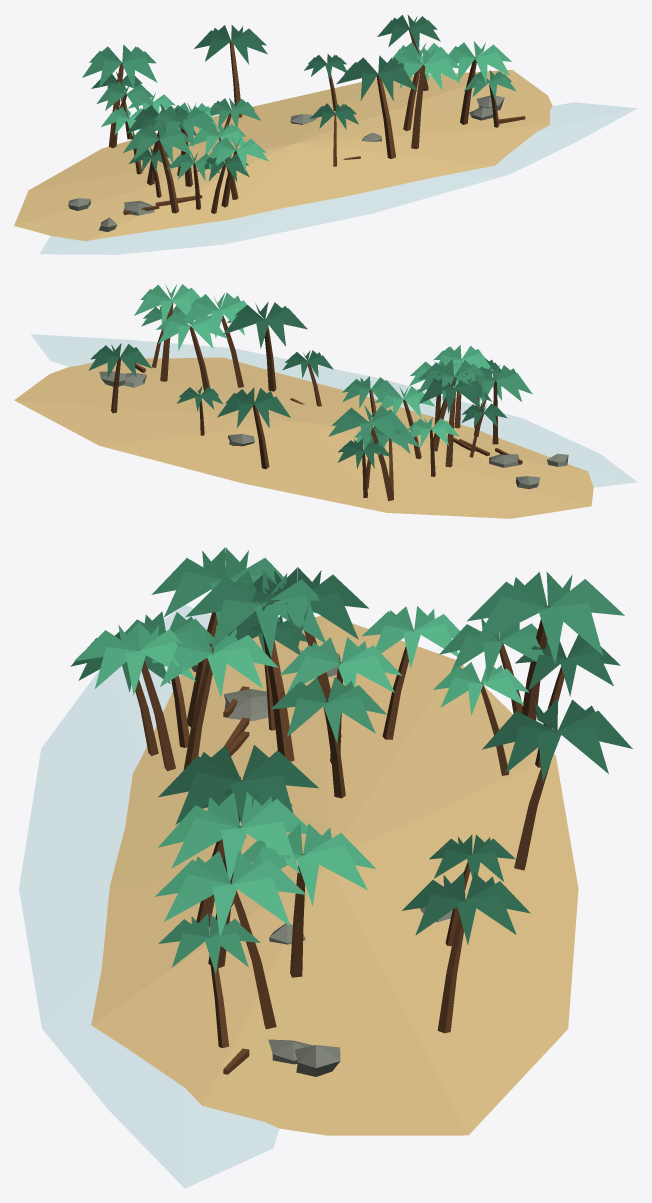
Rendered from W3_Mid_PalmGrove.fbx.
The picture shows the model from 3 angles, top to bottom: view 1: azimuth 30°, elevation 25°; view 2: azimuth 150°, elevation 25°; view 3: azimuth 270°, elevation 25°; orthographic projection. The views are drawn at different scales.
Visible parts, largest first — view 1: W3_Mid_PalmGrove; view 2: W3_Mid_PalmGrove; view 3: W3_Mid_PalmGrove.
Boxes of the visible parts, <box> form: W3_Mid_PalmGrove: <box>14,14,637,254</box>; W3_Mid_PalmGrove: <box>14,284,637,518</box>; W3_Mid_PalmGrove: <box>19,547,632,1188</box>.
Size of the model in its own units: 136 by 20.06 by 60.43.
